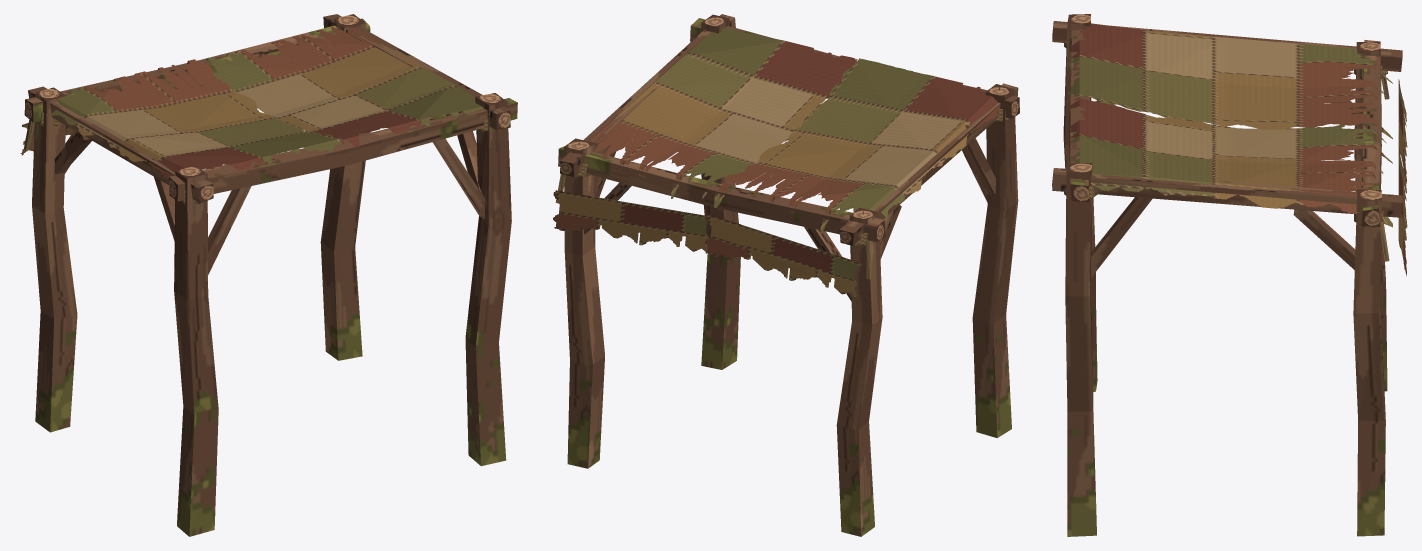
The model's file is SM_ST13_Shelter.fbx.
3 views of the same model, side by side, from view 1: azimuth 30°, elevation 25°; view 2: azimuth 150°, elevation 25°; view 3: azimuth 270°, elevation 25° (orthographic). The views are drawn at different scales.
Parts seen in each view (by area): view 1: ST13_Frame, ST13_Roof; view 2: ST13_Roof, ST13_Frame; view 3: ST13_Roof, ST13_Frame.
Boxes of the visible parts, x1=… form: ST13_Frame: x1=24, y1=14, x2=517, y2=536; ST13_Roof: x1=20, y1=27, x2=488, y2=179; ST13_Roof: x1=553, y1=28, x2=999, y2=297; ST13_Frame: x1=555, y1=14, x2=1019, y2=536; ST13_Roof: x1=1068, y1=23, x2=1407, y2=276; ST13_Frame: x1=1052, y1=14, x2=1402, y2=536.
Bounding box in the file's own units: 2.7 × 2.72 × 2.41.
